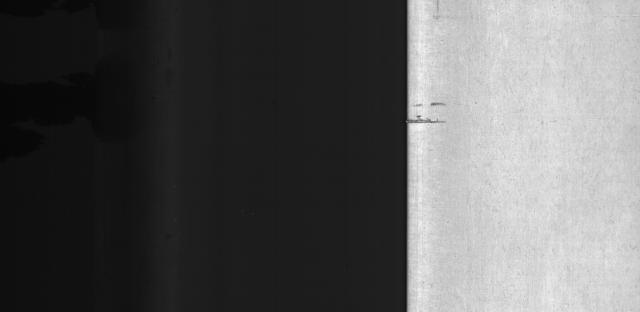crease: (407, 92, 453, 130)
